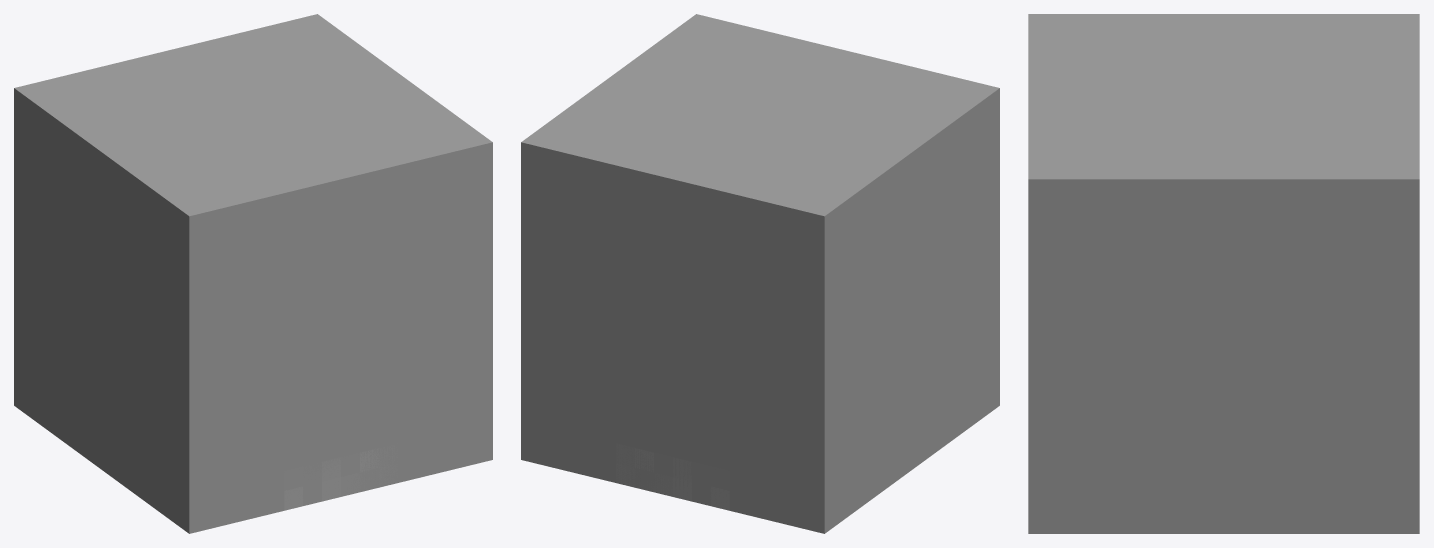
File: transformator.obj
The picture shows the model from 3 angles, left to right: view 1: azimuth 30°, elevation 25°; view 2: azimuth 150°, elevation 25°; view 3: azimuth 270°, elevation 25°; orthographic projection. The views are drawn at different scales.
Parts seen in each view (by area): view 1: Minecraft_Block_Cube, main; view 2: Minecraft_Block_Cube, main; view 3: Minecraft_Block_Cube.
Part boxes in pixels (<box>): Minecraft_Block_Cube: <box>14,14,492,533</box>; main: <box>284,443,397,510</box>; Minecraft_Block_Cube: <box>521,14,999,533</box>; main: <box>616,443,729,510</box>; Minecraft_Block_Cube: <box>1028,14,1419,533</box>.
Bounding box in the file's own units: 1 × 1 × 1.
3 materials, 1 textured.
